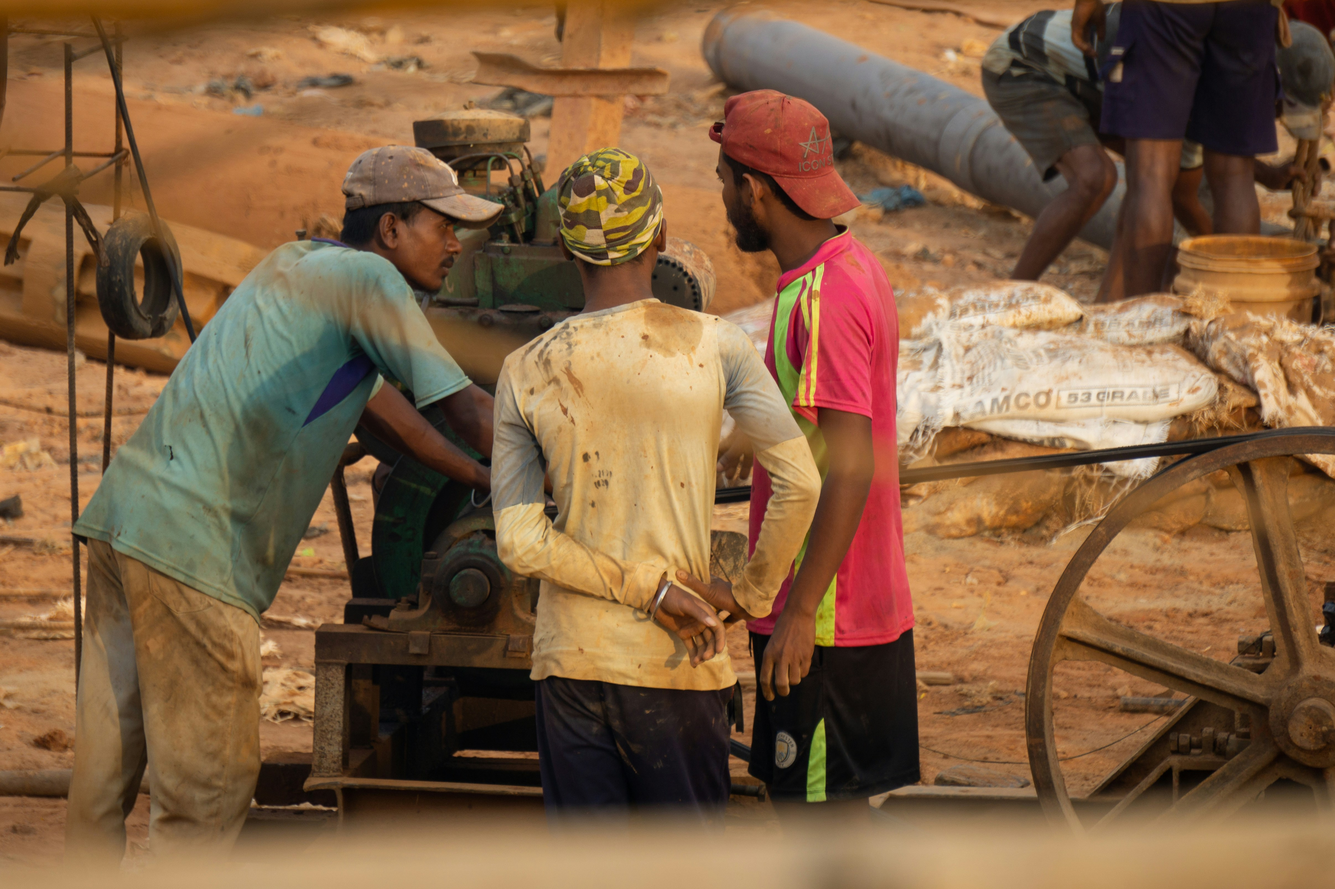No_Helmet: (716, 99, 841, 262), (553, 141, 677, 304), (347, 150, 470, 290)
